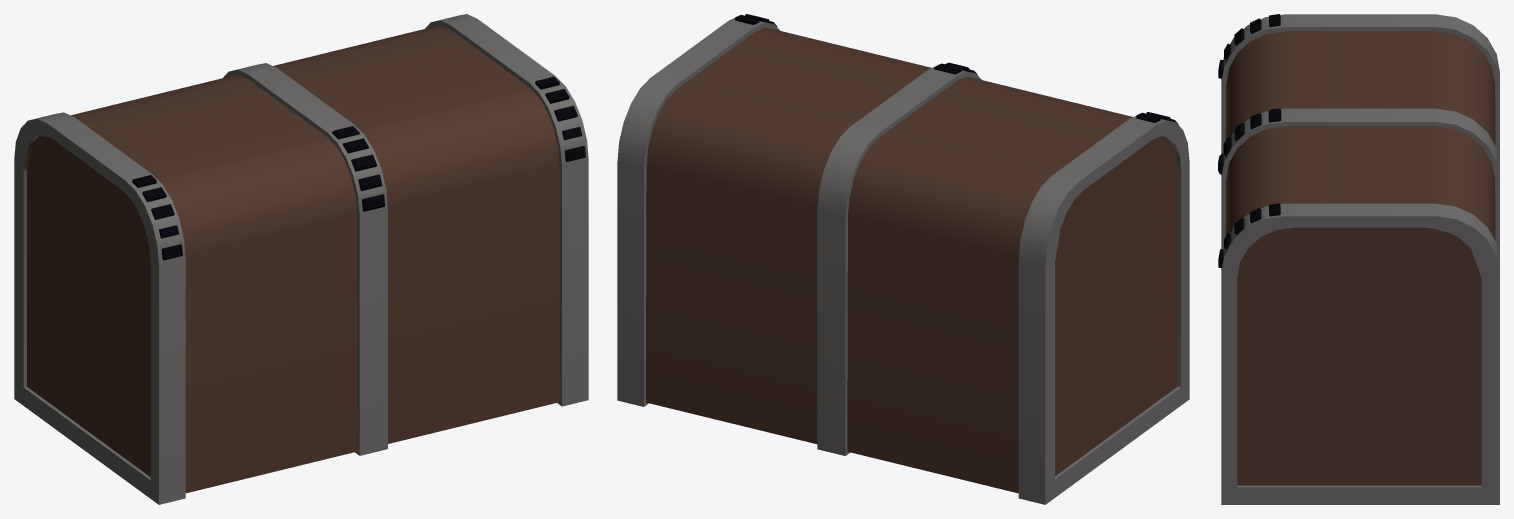
File: D03_BAU.fbx
3 renders of one model, left to right at view 1: azimuth 30°, elevation 25°; view 2: azimuth 150°, elevation 25°; view 3: azimuth 270°, elevation 25°, orthographic. The views are drawn at different scales.
Parts seen in each view (by area): view 1: Cube; view 2: Cube; view 3: Cube.
Boxes of the visible parts, <box> form: Cube: <box>14,14,588,504</box>; Cube: <box>617,14,1189,504</box>; Cube: <box>1218,14,1499,504</box>.
Size of the model in its own units: 120 by 80.8 by 70.8.
Materials: 1 (1 with a texture image).
